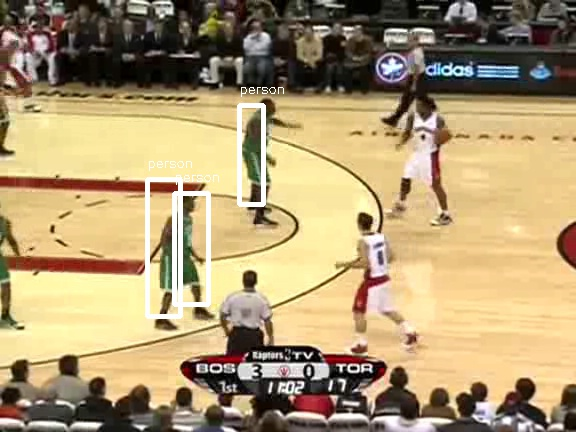person: (163, 215, 197, 296), (162, 215, 196, 296), (164, 215, 198, 296), (163, 214, 197, 295), (163, 216, 197, 297)
target_negative: (99, 344, 529, 357), (235, 350, 502, 364), (346, 263, 402, 318), (550, 39, 553, 162), (495, 62, 497, 184)
